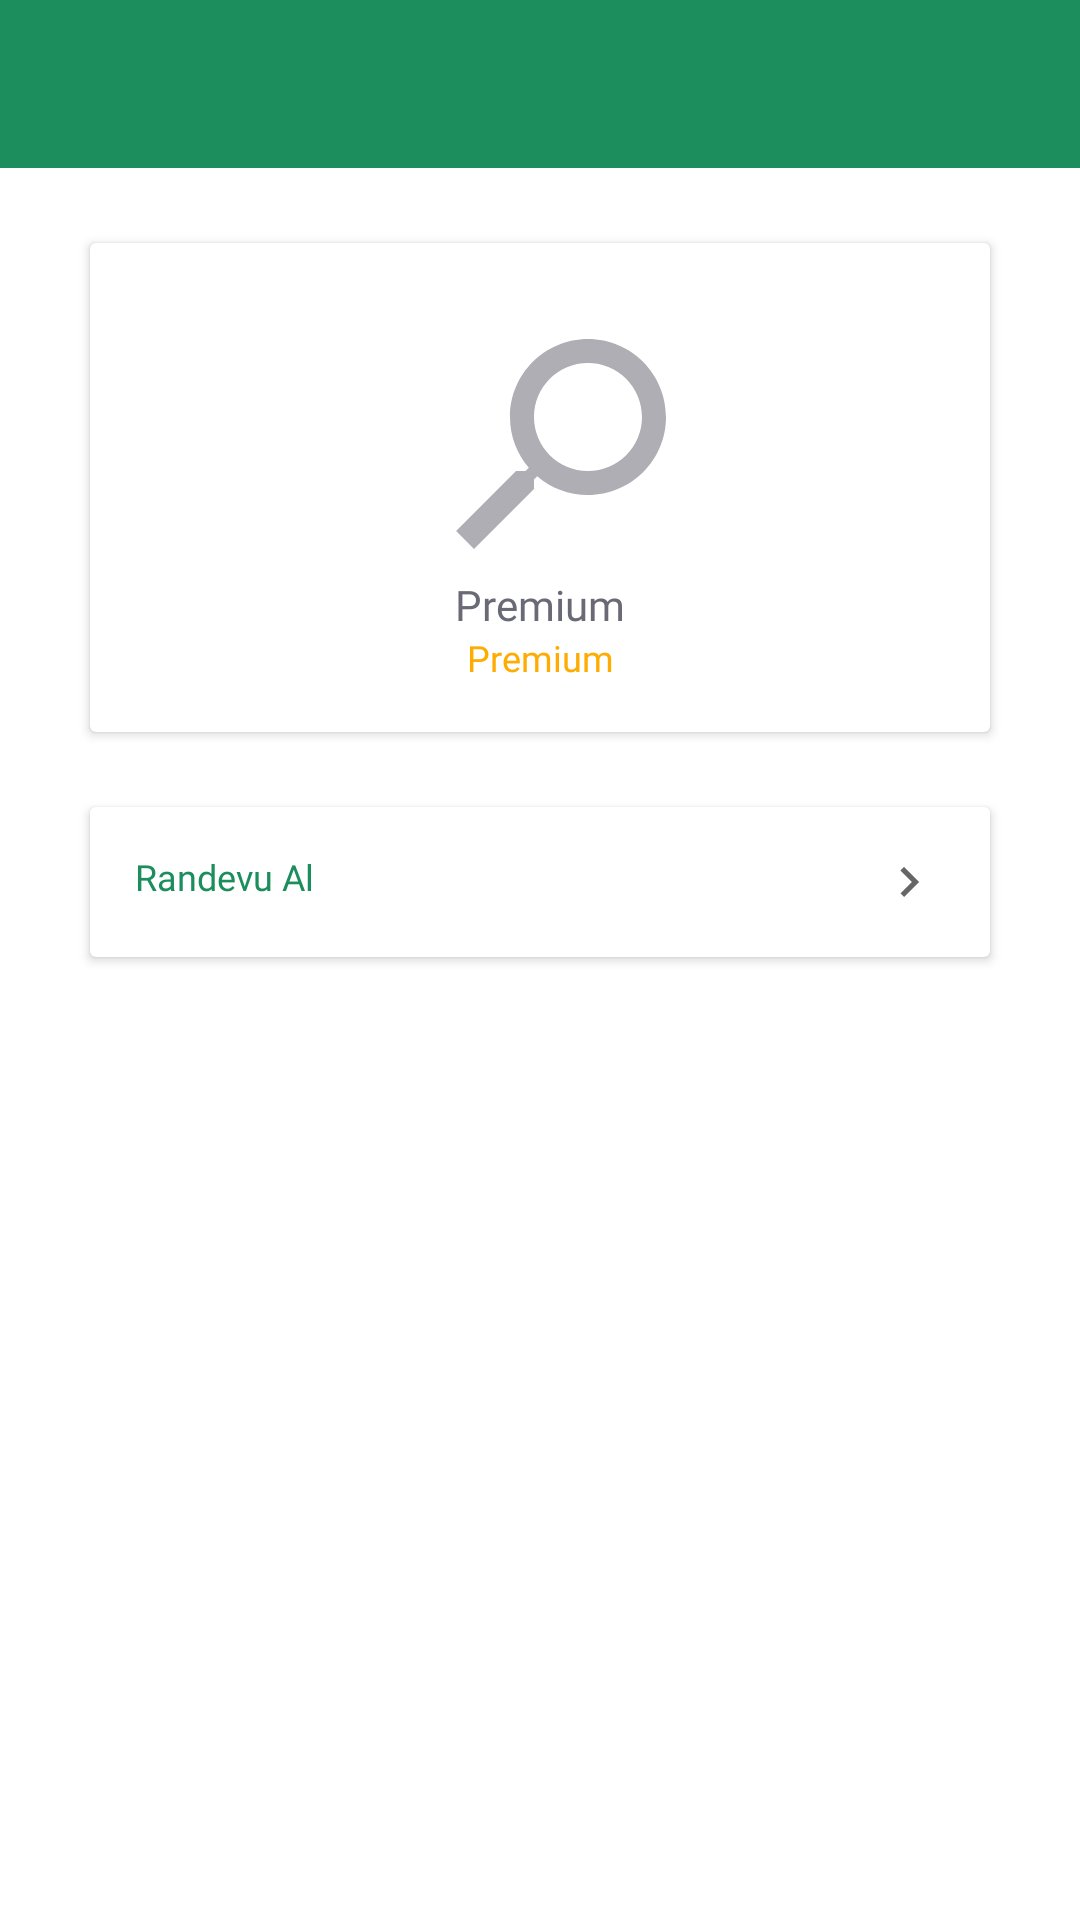

Icon click points for this 1080px×1920px phone screenshot, format (x=x, y=y):
Tıkla: (x=909, y=882)
